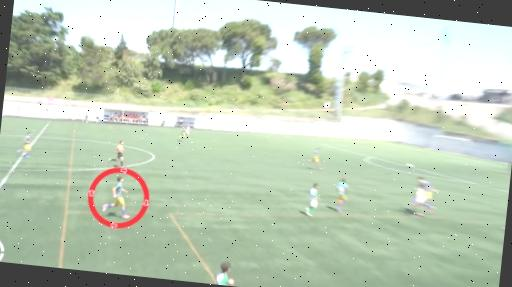highlight_overlay: (83, 159, 152, 237)
